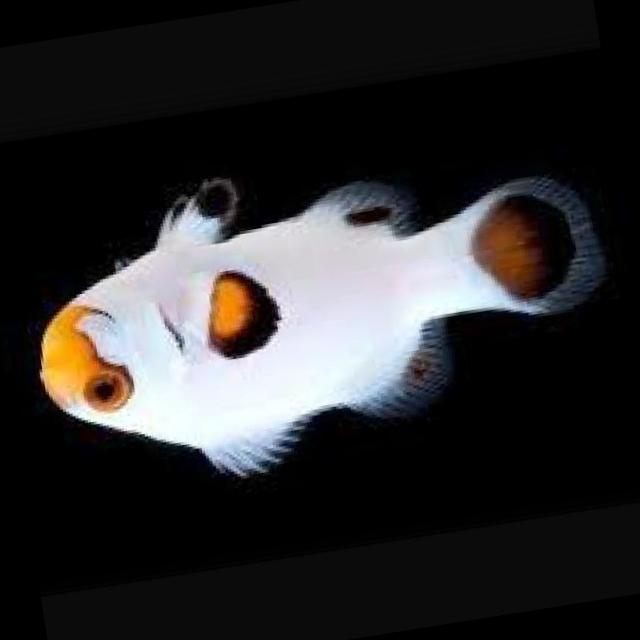ClownFish: (6, 100, 625, 507)
